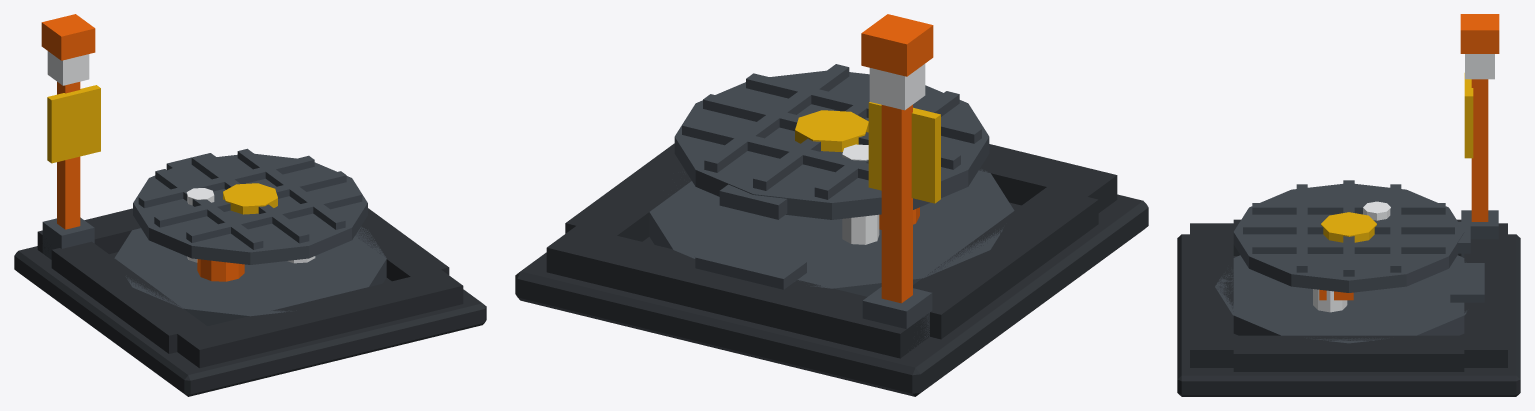
The model's file is obs_manhole_pop_hazard.glb.
3 renders of one model, left to right at view 1: azimuth 30°, elevation 25°; view 2: azimuth 150°, elevation 25°; view 3: azimuth 270°, elevation 25°, orthographic. The views are drawn at different scales.
Parts seen in each view (by area): view 1: body, lid_pop, iron_collar_ring, steam_riser_main, warning_plate, steam_plume_1; view 2: body, lid_pop, iron_collar_ring, steam_riser_main, warning_plate, steam_plume_1; view 3: body, lid_pop, iron_collar_ring, steam_riser_main, steam_plume_1, warning_plate.
Boxes of the visible parts, x1,y1,x2,y2 form: body: [14, 208, 486, 396]; lid_pop: [133, 148, 367, 264]; iron_collar_ring: [42, 217, 386, 326]; steam_riser_main: [41, 14, 244, 281]; warning_plate: [47, 85, 100, 163]; steam_plume_1: [47, 51, 315, 263]; body: [515, 143, 1148, 396]; lid_pop: [674, 64, 989, 219]; iron_collar_ring: [649, 169, 1014, 351]; steam_riser_main: [861, 14, 933, 303]; warning_plate: [868, 102, 940, 203]; steam_plume_1: [842, 64, 925, 244]; body: [1177, 219, 1520, 396]; lid_pop: [1233, 180, 1470, 292]; iron_collar_ring: [1215, 210, 1498, 343]; steam_riser_main: [1319, 14, 1499, 300]; steam_plume_1: [1313, 54, 1494, 312]; warning_plate: [1464, 73, 1473, 158].
Size of the model in its own units: 1.1 by 0.88 by 1.1.
